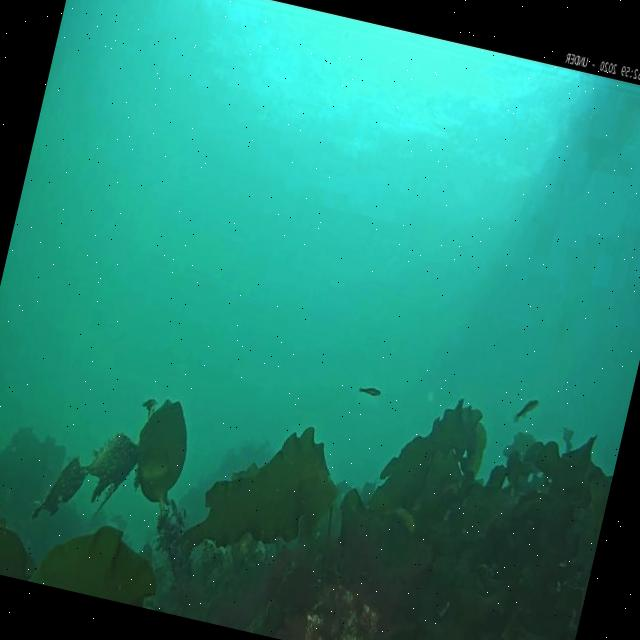fish: (515, 395, 536, 423), (359, 384, 383, 398)
